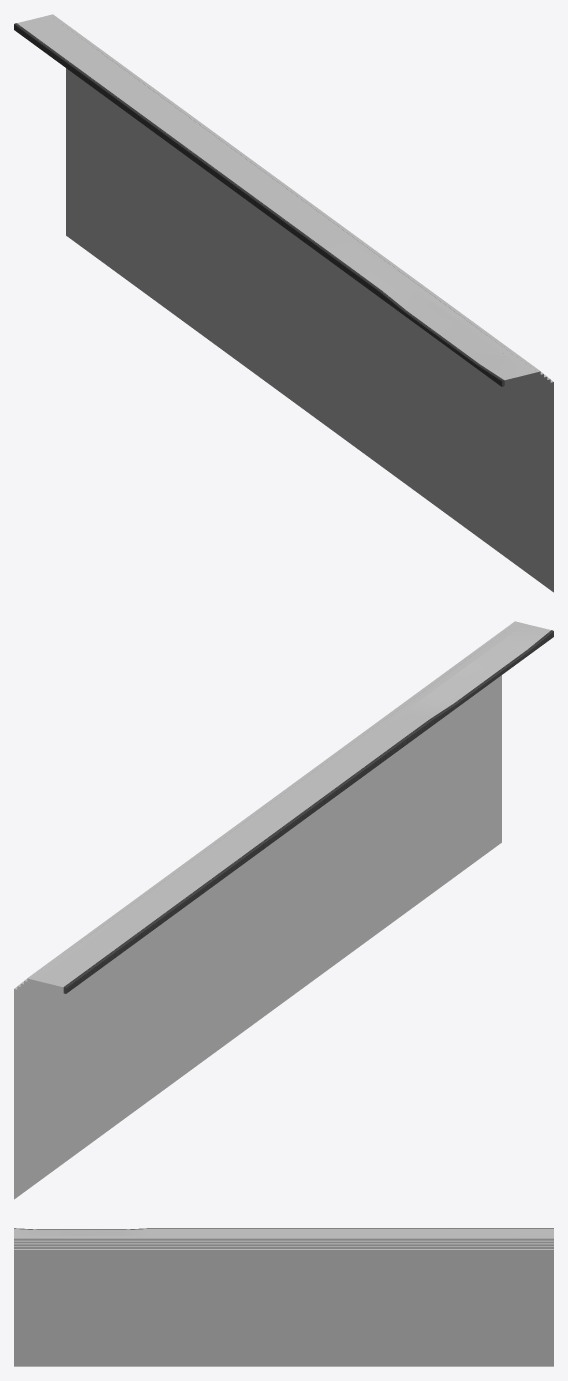
File: sidewalk.fbx
The picture shows the model from 3 angles, top to bottom: view 1: azimuth 30°, elevation 25°; view 2: azimuth 150°, elevation 25°; view 3: azimuth 270°, elevation 25°; orthographic projection. The views are drawn at different scales.
Parts seen in each view (by area): view 1: NodeSidewalk; view 2: NodeSidewalk; view 3: NodeSidewalk.
Part boxes in pixels (left/top/right/bottom): NodeSidewalk: left=14, top=14, right=553, bottom=592; NodeSidewalk: left=14, top=621, right=553, bottom=1199; NodeSidewalk: left=14, top=1228, right=553, bottom=1366.
Bounding box in the file's own units: 395 × 1626 × 6401.
